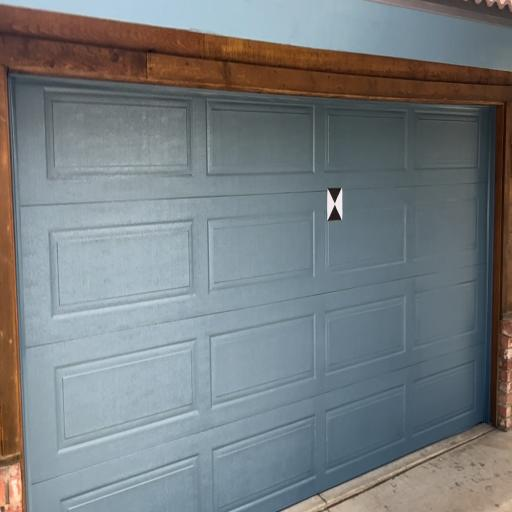target: (328, 188, 343, 220)
